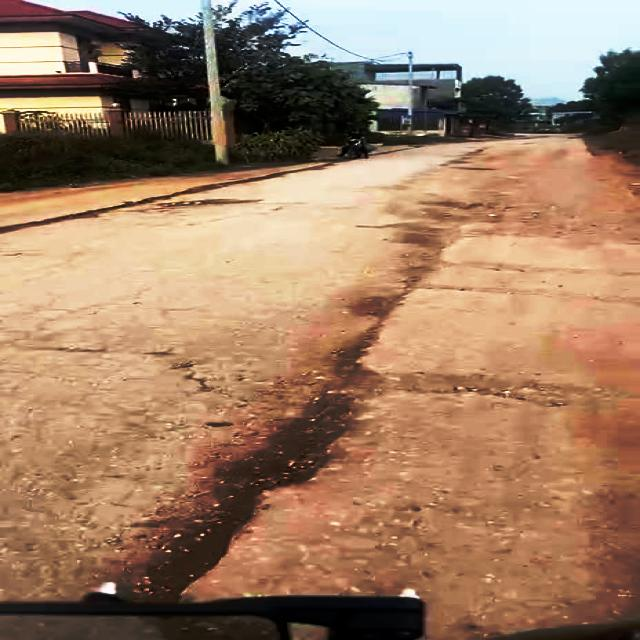pothole: (108, 361, 392, 623), (381, 367, 601, 404)
